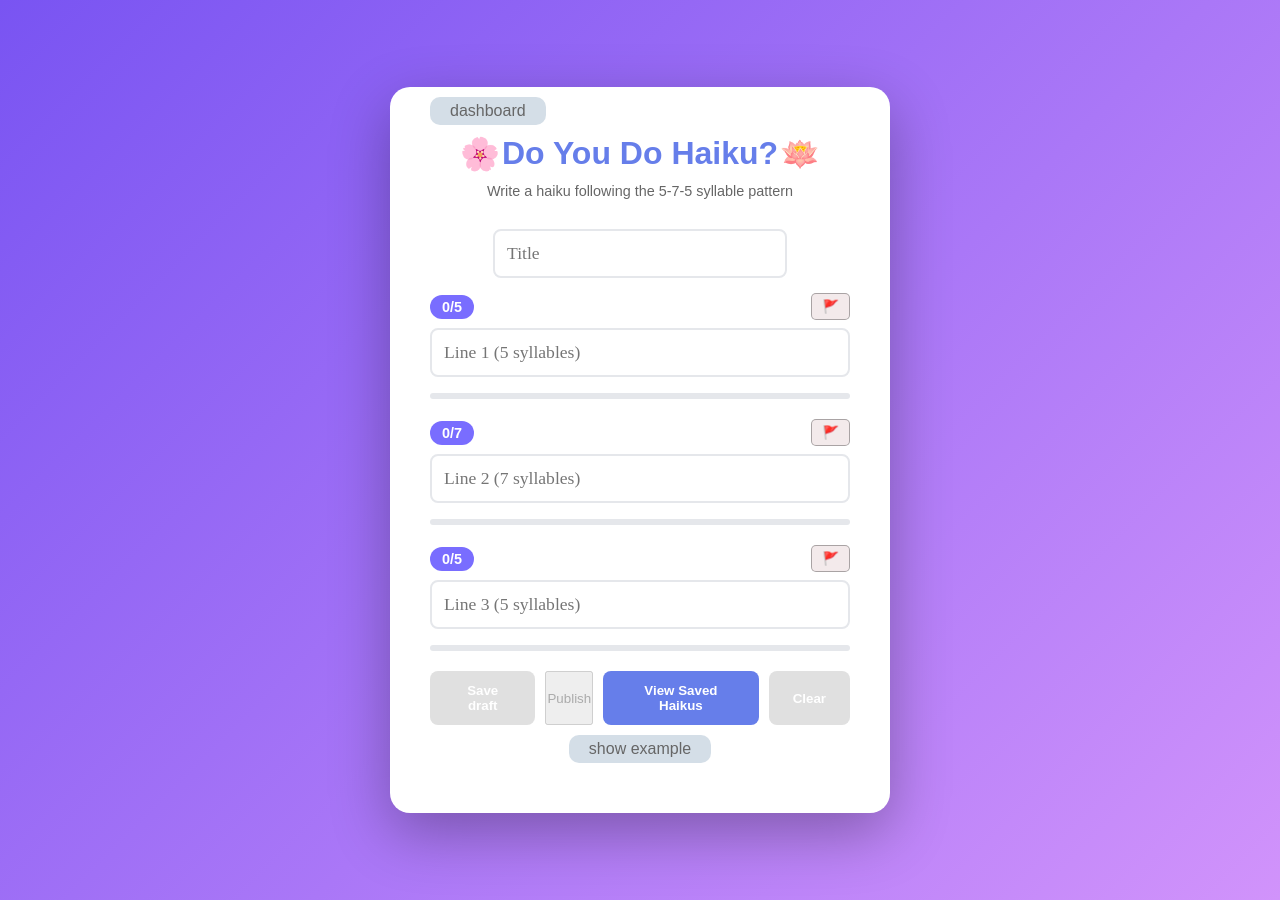
Test: App Component › displays 'saved' after the haiku is saved
The width and height of the screenshot is (1280, 900).
In the text box with placeholder "Line 1 (5 syllables)": (640, 352) x1=430 y1=328 x2=850 y2=377, type "Hello World My Dear"
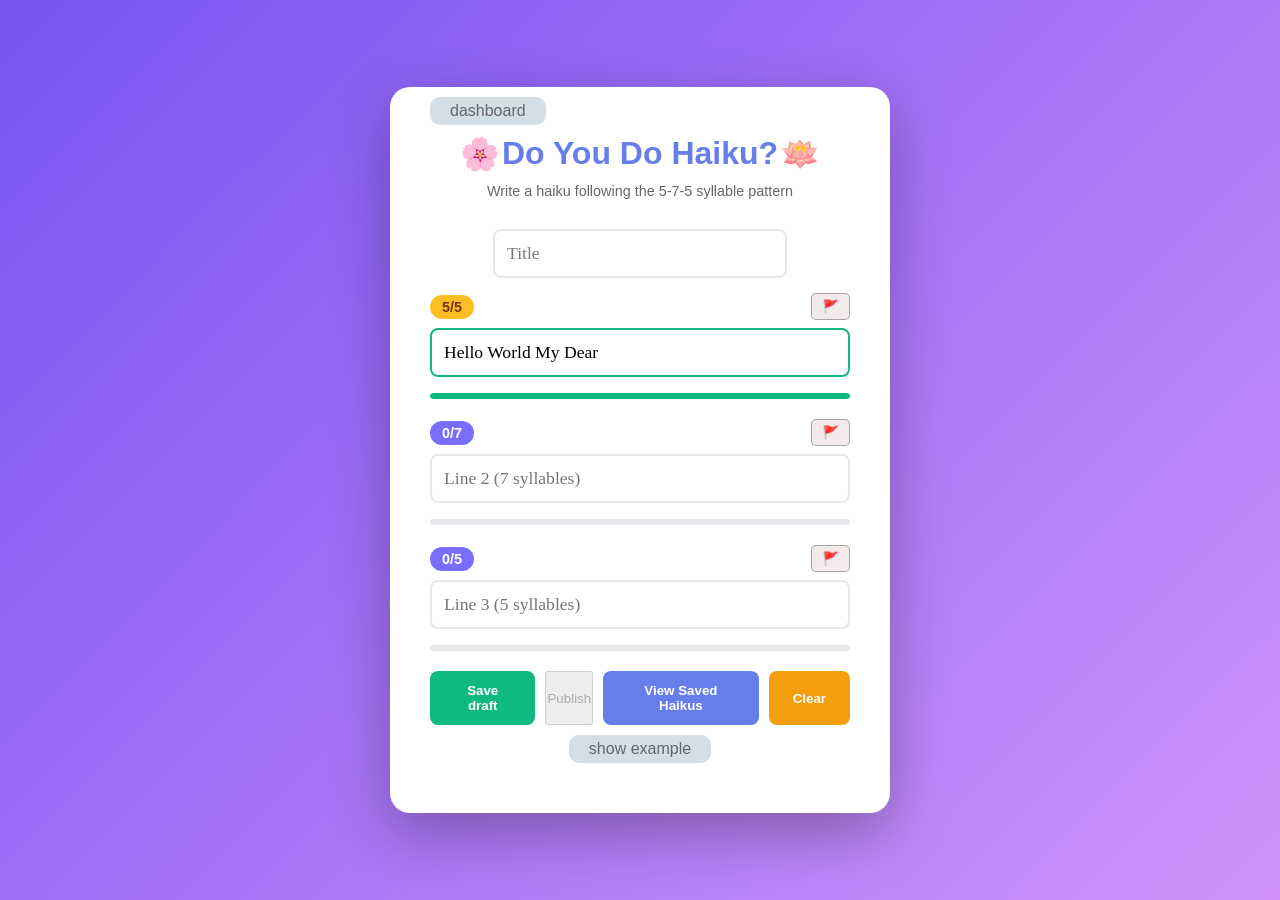
In the text box with placeholder "Line 2 (7 syllables)": (640, 478) x1=430 y1=454 x2=850 y2=503, type "I hope you are feeling well"
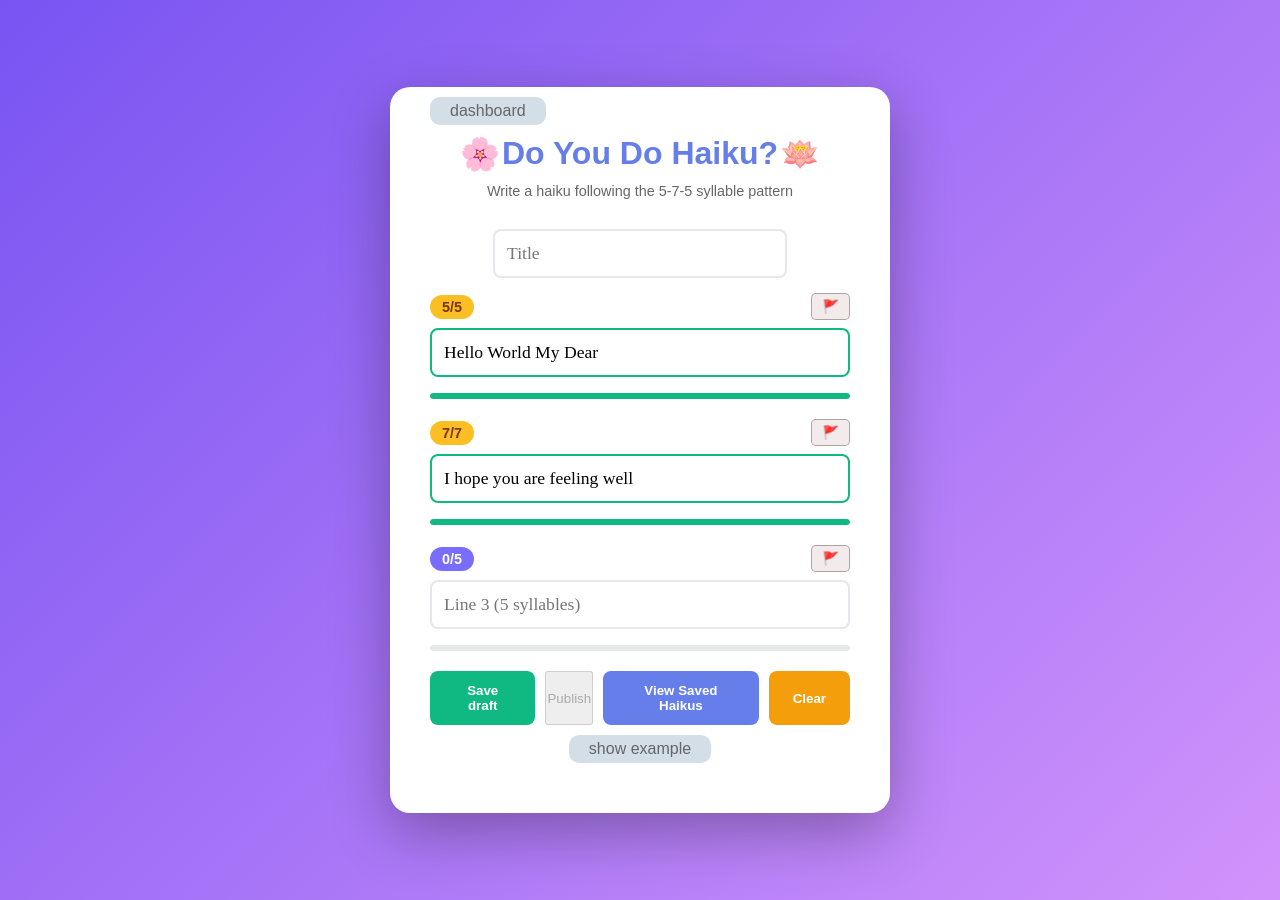
In the text box with placeholder "Line 3 (5 syllables)": (640, 604) x1=430 y1=580 x2=850 y2=629, type "I am waiting here"
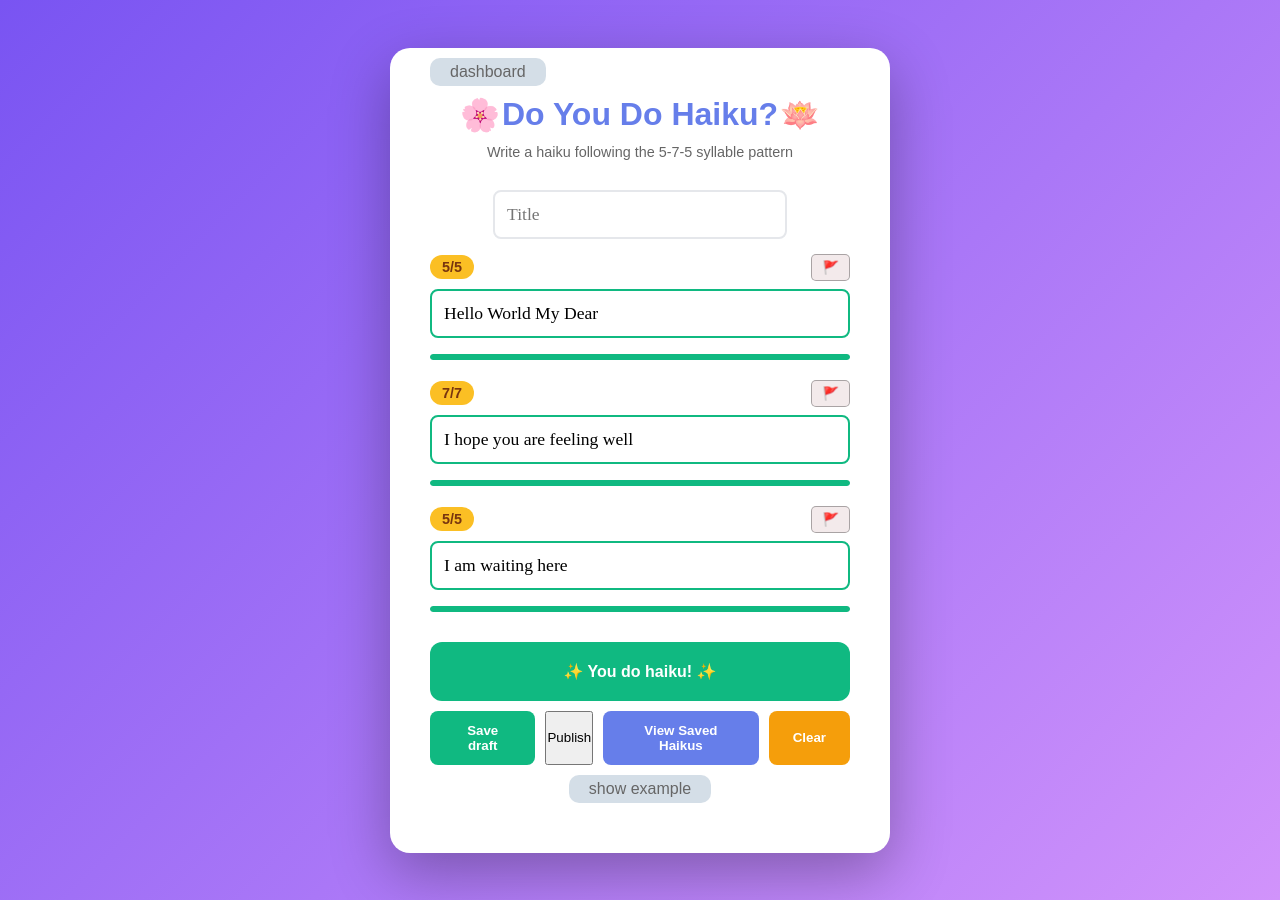
Click the button "Save draft": click(483, 738) x1=430 y1=710 x2=536 y2=764
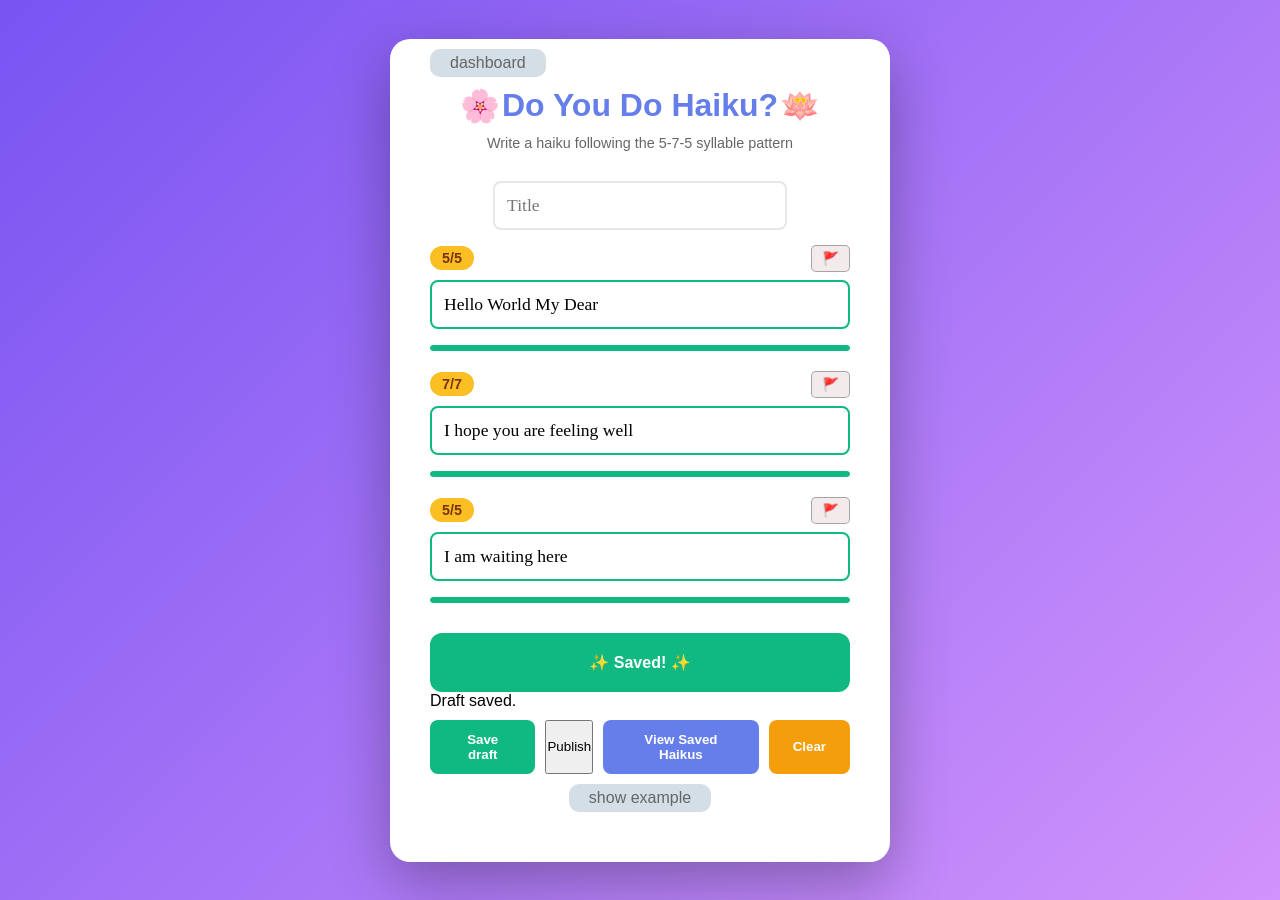
Expected: the text "✨ Saved! ✨" is shown, x1=430 y1=632 x2=850 y2=692
